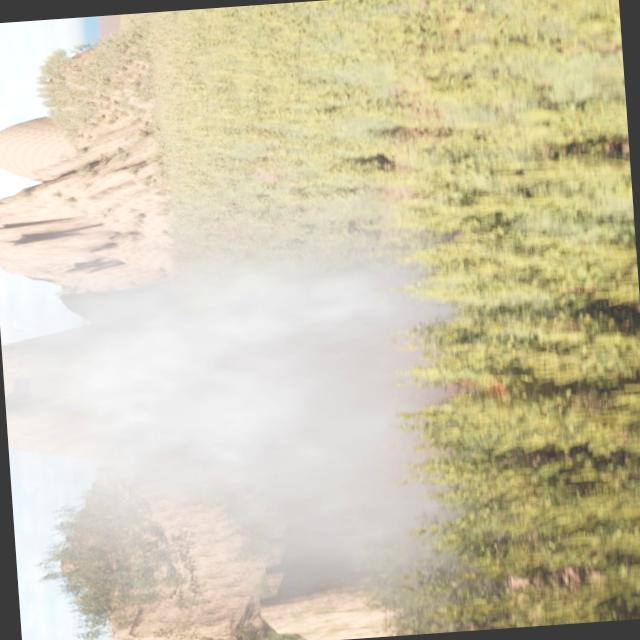smoke: (0, 239, 451, 637)
